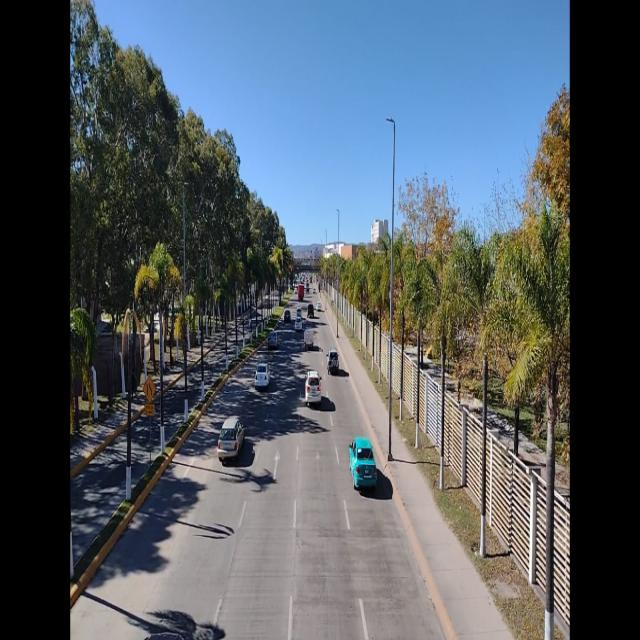Auto: (348, 434, 378, 493), (218, 413, 246, 465), (306, 370, 322, 408), (255, 361, 271, 390), (325, 350, 340, 374), (268, 327, 279, 349), (295, 317, 303, 330), (284, 311, 291, 322), (317, 301, 321, 311)
